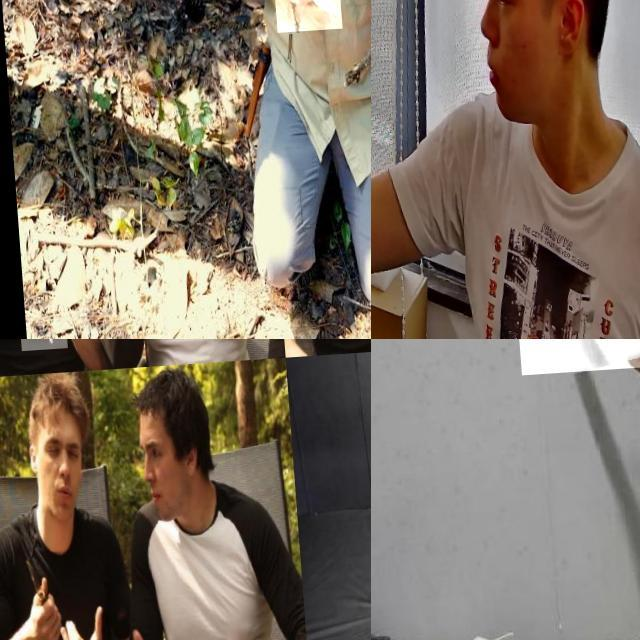-: (500, 339, 640, 478), (12, 547, 53, 640), (10, 339, 62, 396), (269, 0, 338, 40), (335, 339, 371, 395)
gun-knife-thesis - v11 Yolov5 augmented: (371, 0, 442, 120)
